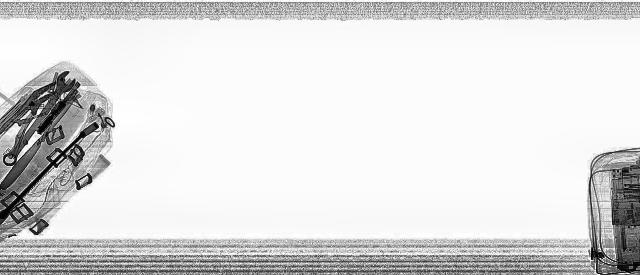Knife: (0, 87, 102, 175)
Wrench: (4, 120, 104, 206), (0, 70, 78, 160)
